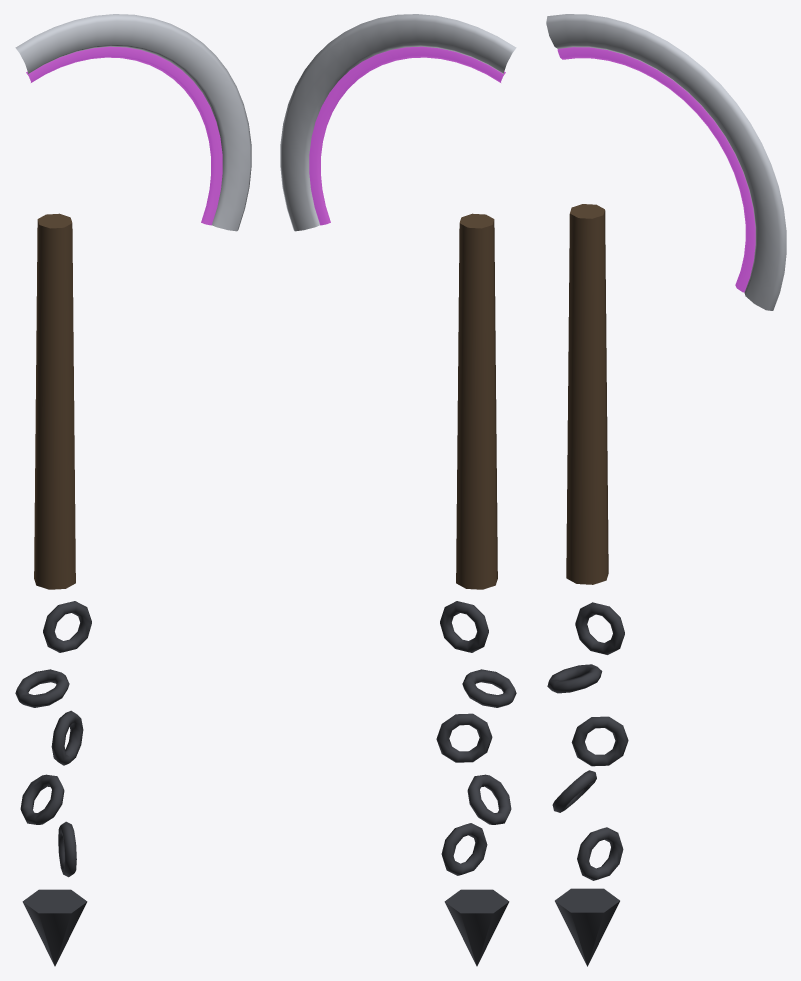
The model's file is kyoya.glb.
The picture shows the model from 3 angles, left to right: view 1: azimuth 30°, elevation 25°; view 2: azimuth 150°, elevation 25°; view 3: azimuth 330°, elevation 25°; orthographic projection.
Size of the model in its own units: 0.7562 by 2.88 by 0.18.
